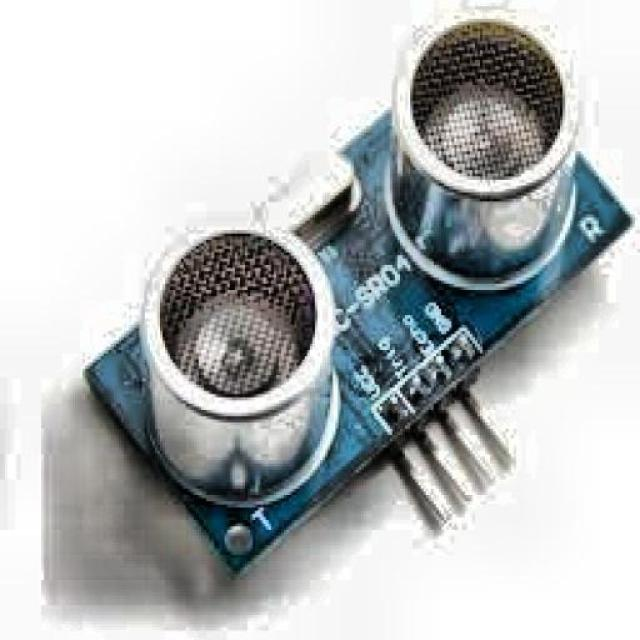Ultrasonic Sensor: (22, 0, 640, 601)
